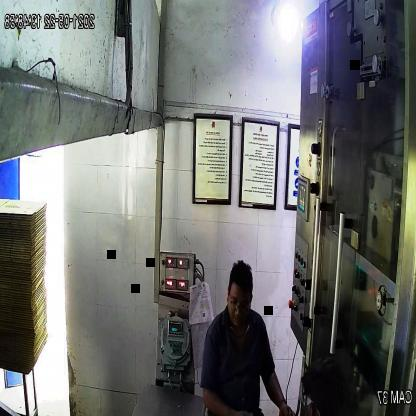goggles: (224, 290, 255, 316)
